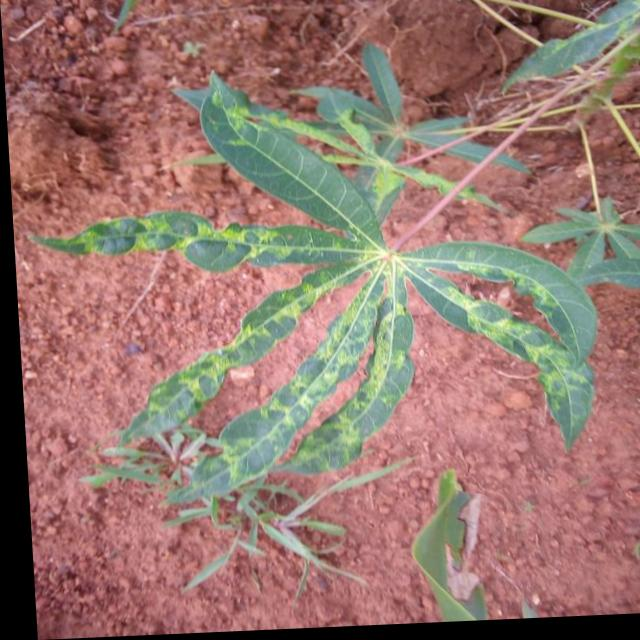Mosaico: (71, 108, 616, 505), (245, 59, 480, 263), (378, 447, 516, 624)
